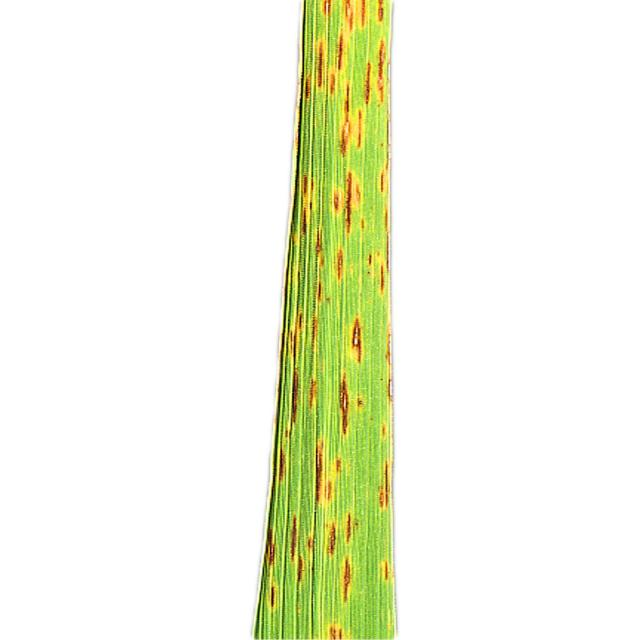Narrow brown: (232, 0, 478, 640)
